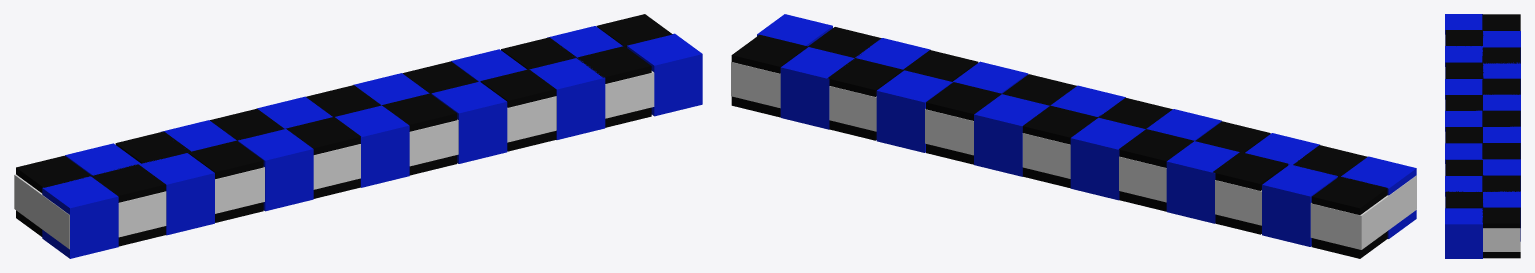
File: finnish.fbx
The picture shows the model from 3 angles, left to right: view 1: azimuth 30°, elevation 25°; view 2: azimuth 150°, elevation 25°; view 3: azimuth 270°, elevation 25°; orthographic projection. The views are drawn at different scales.
Visible parts, largest first — view 1: Cube, Cube.019, Cube.011, Cube.009, Cube.017, Cube.010, Cube.018, Cube.002, Cube.013, Cube.016, Cube.014, Cube.020 (+15 smaller); view 2: Cube, Cube.022, Cube.007, Cube.003, Cube.021, Cube.008, Cube.026, Cube.025, Cube.006, Cube.005, Cube.024, Cube.001 (+15 smaller); view 3: Cube.011, Cube.006, Cube, Cube.001, Cube.005, Cube.008, Cube.023, Cube.025, Cube.004, Cube.009, Cube.018, Cube.007 (+15 smaller).
Boxes of the visible parts, bbox=[...] form: Cube: bbox=[14, 71, 654, 249]; Cube.019: bbox=[42, 176, 118, 258]; Cube.011: bbox=[627, 33, 702, 116]; Cube.009: bbox=[431, 81, 507, 163]; Cube.017: bbox=[237, 129, 313, 211]; Cube.010: bbox=[529, 57, 605, 139]; Cube.018: bbox=[139, 153, 214, 235]; Cube.002: bbox=[335, 105, 409, 187]; Cube.013: bbox=[480, 69, 556, 151]; Cube.016: bbox=[188, 140, 263, 222]; Cube.014: bbox=[382, 93, 457, 175]; Cube.020: bbox=[91, 164, 165, 246]; Cube: bbox=[731, 62, 1416, 249]; Cube.022: bbox=[1262, 164, 1337, 246]; Cube.007: bbox=[876, 70, 952, 152]; Cube.003: bbox=[974, 94, 1049, 176]; Cube.021: bbox=[1070, 117, 1145, 200]; Cube.008: bbox=[780, 47, 854, 129]; Cube.026: bbox=[1166, 141, 1239, 223]; Cube.025: bbox=[1311, 176, 1387, 258]; Cube.006: bbox=[731, 34, 807, 117]; Cube.005: bbox=[827, 58, 902, 140]; Cube.024: bbox=[1213, 152, 1287, 234]; Cube.001: bbox=[1022, 105, 1098, 188]; Cube.011: bbox=[1445, 208, 1482, 258]; Cube.006: bbox=[1482, 207, 1520, 258]; Cube: bbox=[1445, 35, 1520, 251]; Cube.001: bbox=[1482, 110, 1520, 126]; Cube.005: bbox=[1482, 175, 1520, 191]; Cube.008: bbox=[1483, 191, 1520, 241]; Cube.023: bbox=[1482, 78, 1520, 94]; Cube.025: bbox=[1482, 14, 1520, 30]; Cube.004: bbox=[1482, 143, 1520, 159]; Cube.009: bbox=[1445, 143, 1482, 175]; Cube.018: bbox=[1445, 46, 1482, 78]; Cube.007: bbox=[1483, 159, 1520, 190].
Size of the model in its own units: 2616 by 200 by 399.
